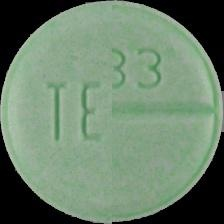35356-722: (0, 0, 224, 224)
